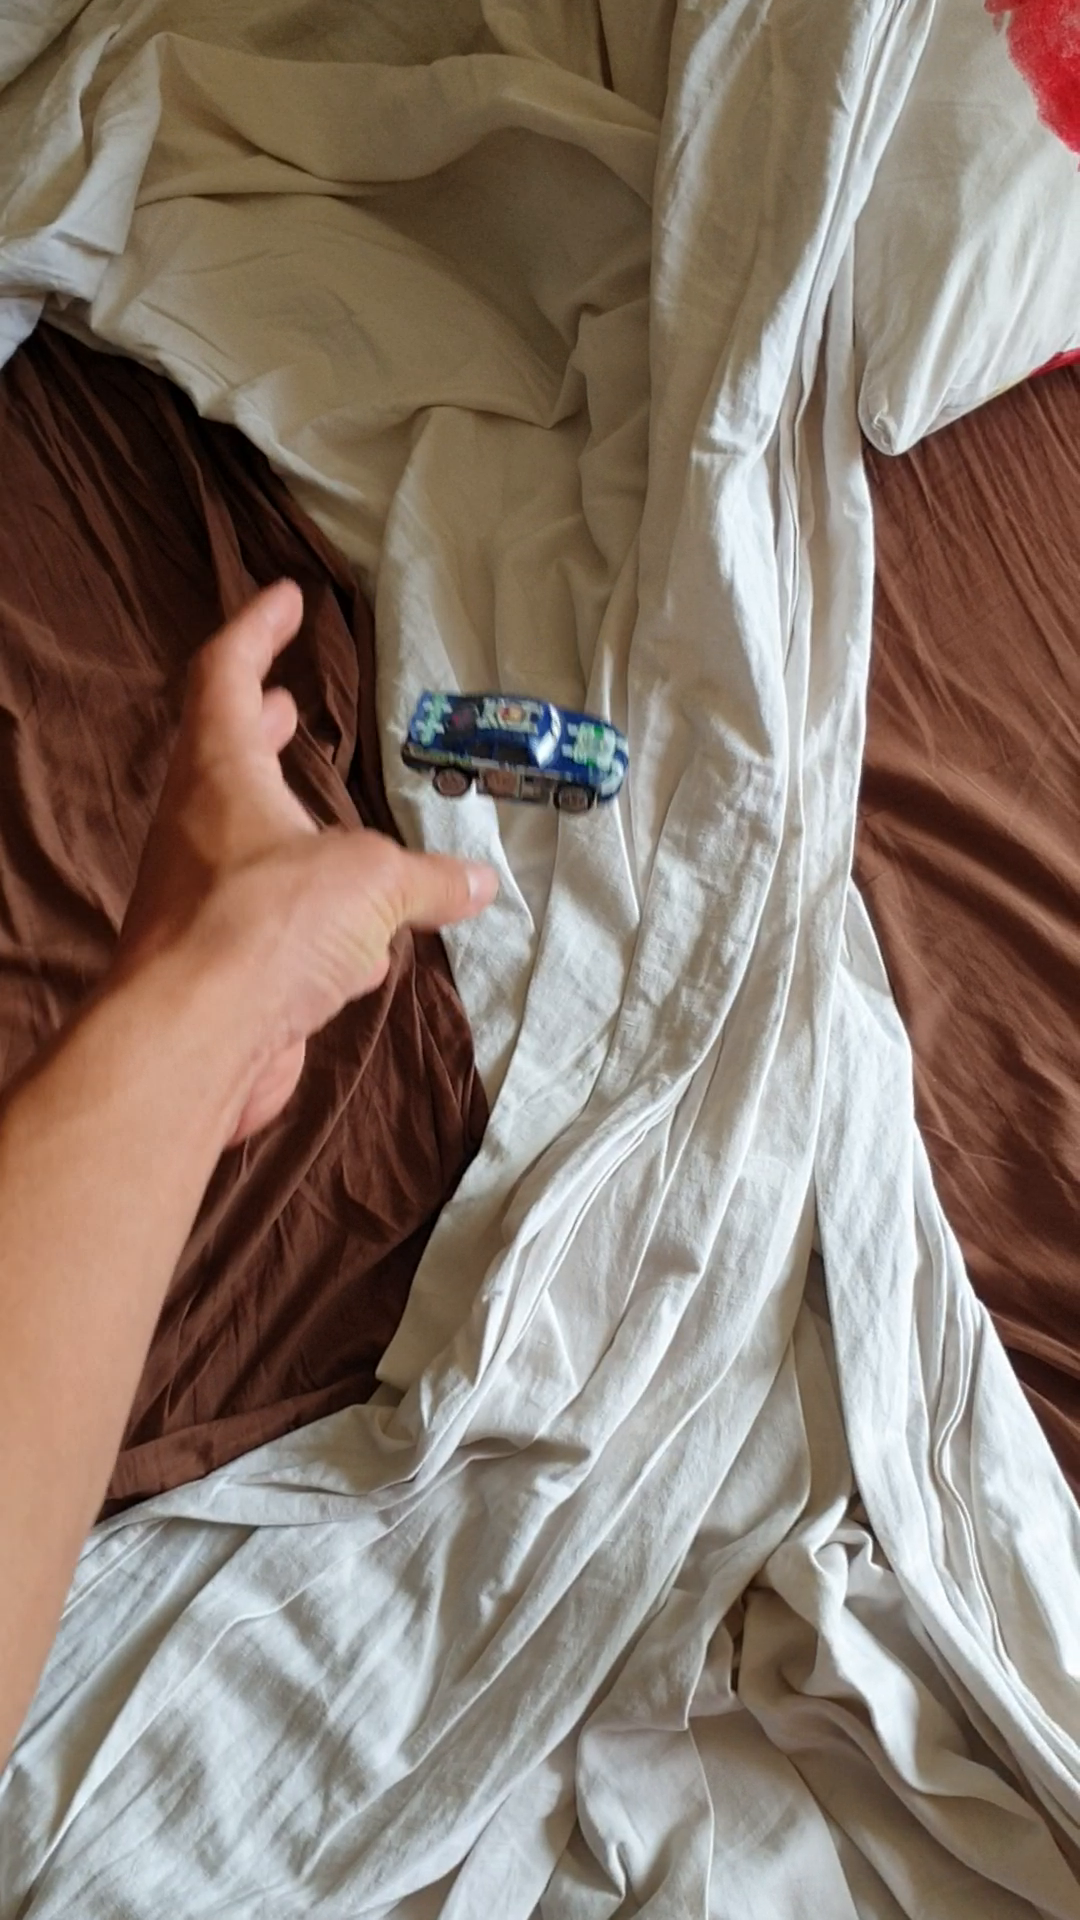cars: (398, 690, 634, 814)
